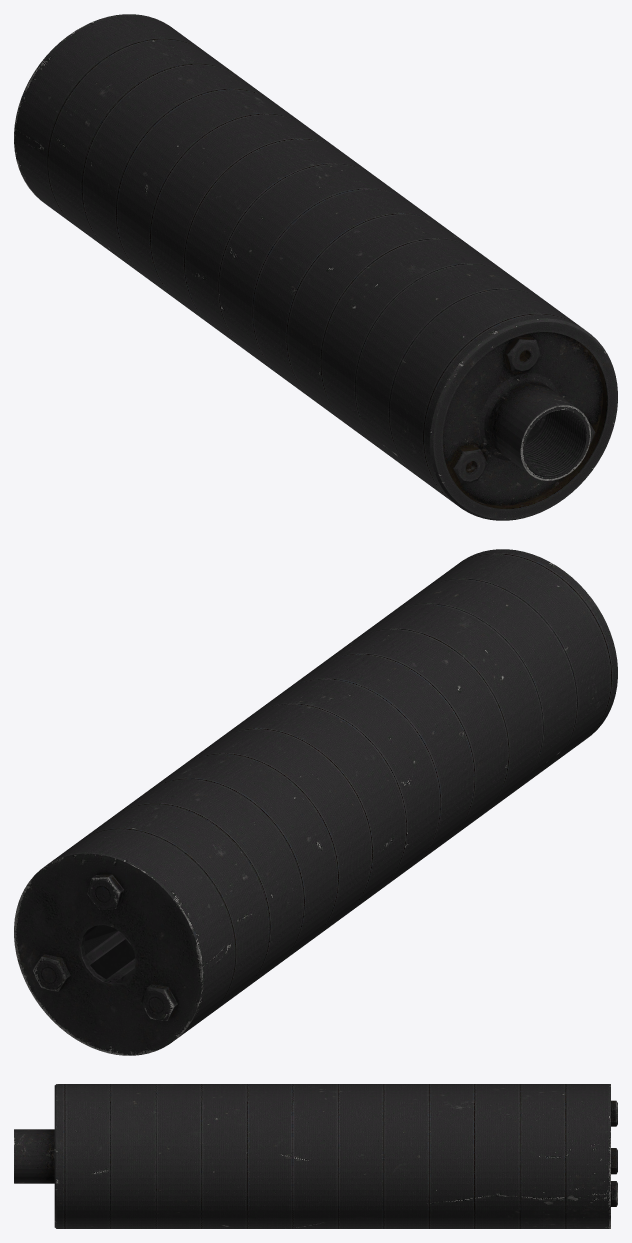
3 views of the same model, one above another, from view 1: azimuth 30°, elevation 25°; view 2: azimuth 150°, elevation 25°; view 3: azimuth 270°, elevation 25° (orthographic). The views are drawn at different scales.
Parts seen in each view (by area): view 1: TW_59c0ec5b86f77435b128bfca_PZ_Import; view 2: TW_59c0ec5b86f77435b128bfca_PZ_Import; view 3: TW_59c0ec5b86f77435b128bfca_PZ_Import.
Part boxes in pixels (<box>): TW_59c0ec5b86f77435b128bfca_PZ_Import: <box>14,14,617,520</box>; TW_59c0ec5b86f77435b128bfca_PZ_Import: <box>14,549,617,1055</box>; TW_59c0ec5b86f77435b128bfca_PZ_Import: <box>14,1084,617,1228</box>.
Size of the model in its own units: 0.0382 by 0.1593 by 0.0382.
Materials: 1 (1 with a texture image).
